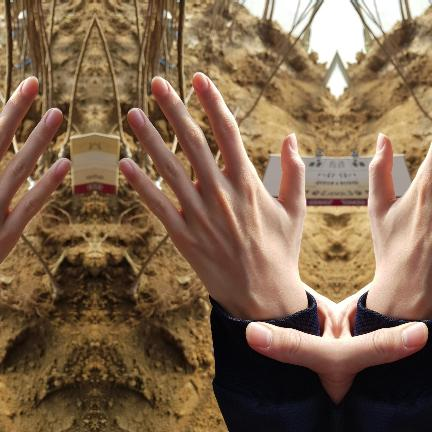Nail: (402, 322, 429, 346), (245, 322, 271, 346), (150, 75, 168, 97), (20, 75, 38, 97), (191, 71, 209, 92), (126, 109, 144, 128), (44, 109, 62, 128), (118, 159, 133, 176), (55, 159, 70, 176), (288, 133, 298, 153), (376, 133, 385, 153)
